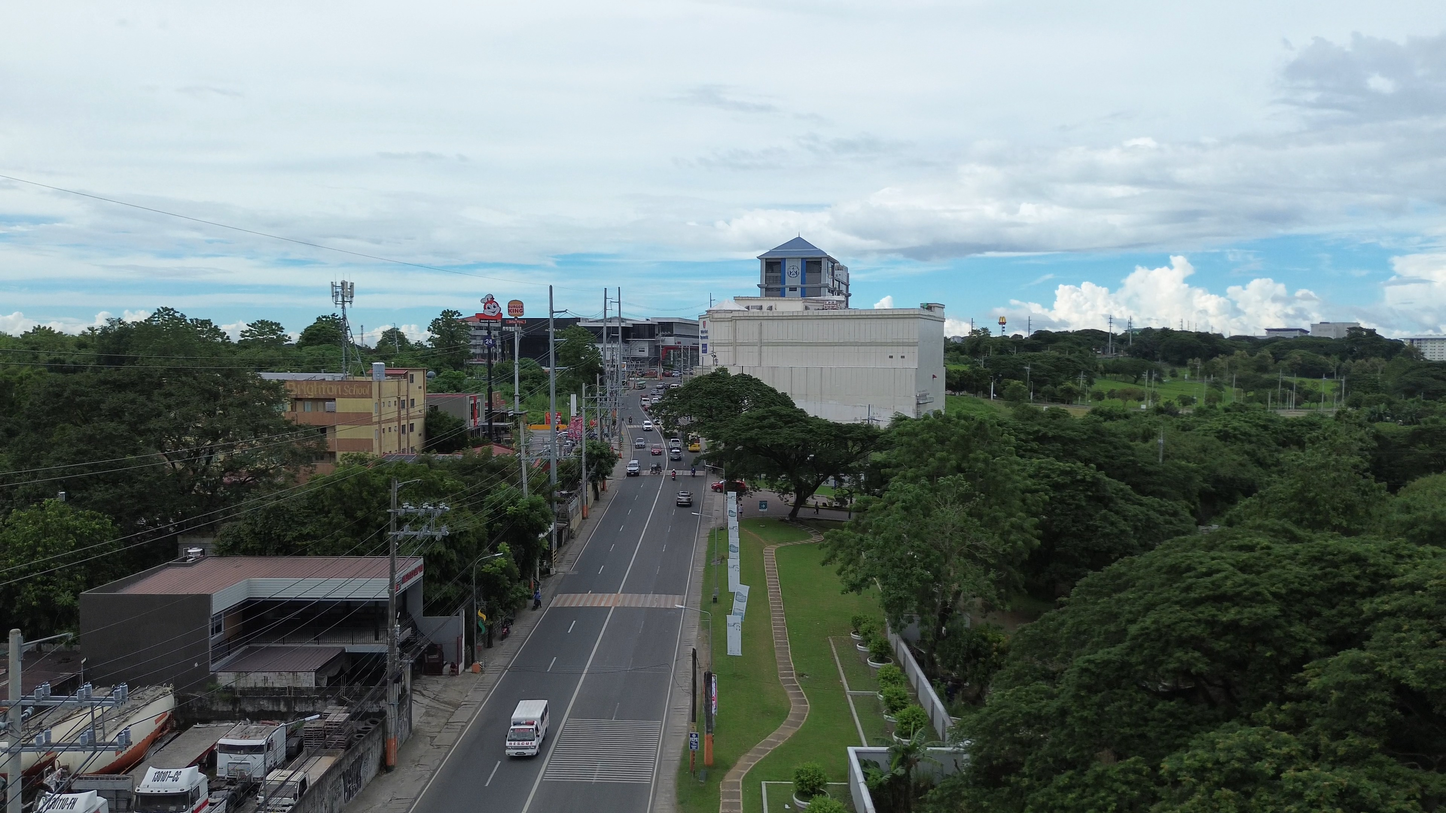car: (634, 437, 646, 449), (650, 444, 663, 455), (668, 437, 681, 448)
vehicle: (216, 724, 285, 781), (133, 766, 208, 813), (506, 700, 549, 756), (257, 767, 309, 813), (34, 792, 110, 813), (710, 480, 749, 492), (686, 434, 701, 452), (625, 460, 640, 477), (676, 491, 692, 506), (669, 448, 682, 461), (650, 444, 663, 455), (668, 438, 680, 449), (642, 419, 653, 430), (669, 383, 680, 389)
